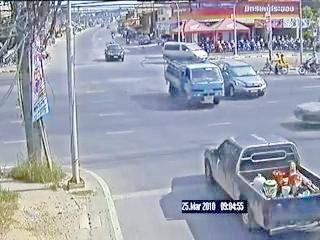Car: (205, 133, 319, 226), (165, 62, 223, 107), (222, 60, 264, 99), (160, 42, 205, 64), (294, 97, 320, 126), (107, 42, 125, 61)
Motor: (262, 56, 287, 76), (299, 56, 320, 77)
